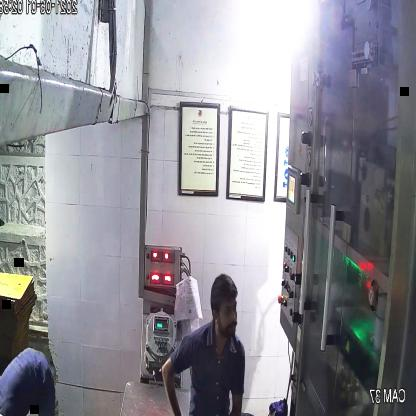no_goggles: (212, 301, 238, 322)
